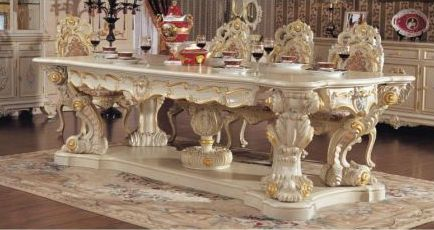Carving Table: (39, 46, 407, 228)
